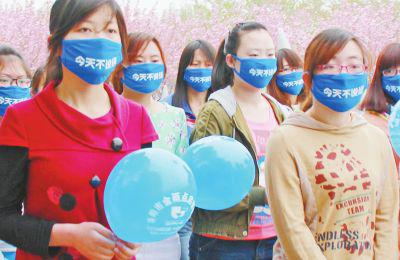OK: (61, 17, 123, 79), (313, 56, 365, 108), (237, 46, 278, 87), (1, 70, 32, 116), (129, 52, 166, 89), (187, 55, 215, 92), (278, 62, 310, 94), (382, 59, 400, 103)
